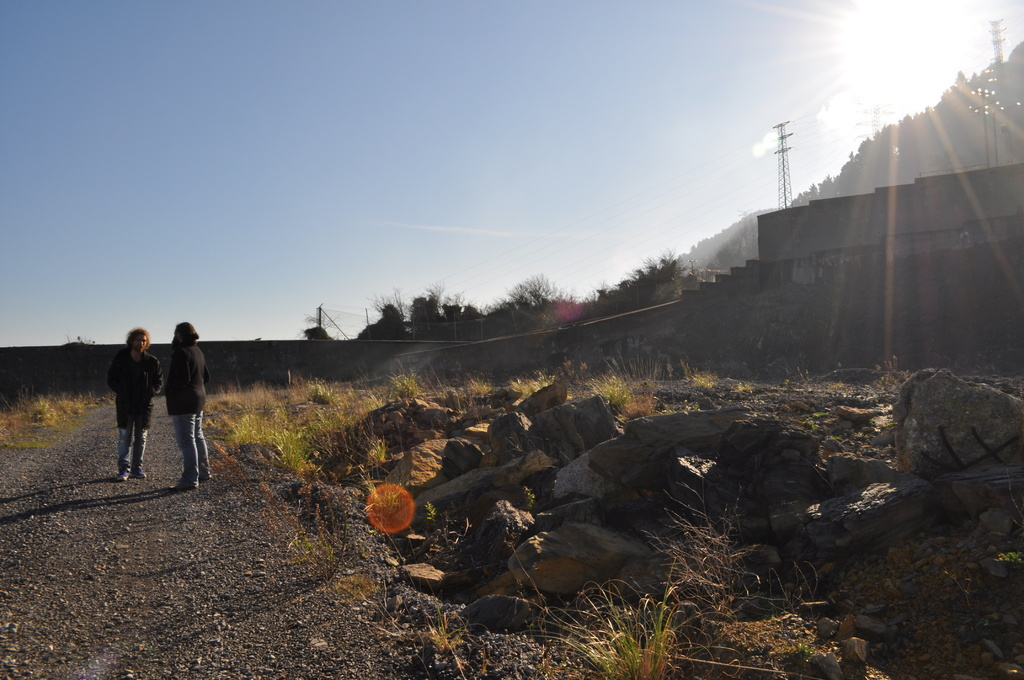Tree: (787, 69, 981, 206), (600, 250, 681, 295), (502, 276, 574, 309), (368, 286, 407, 316), (421, 283, 451, 302)
